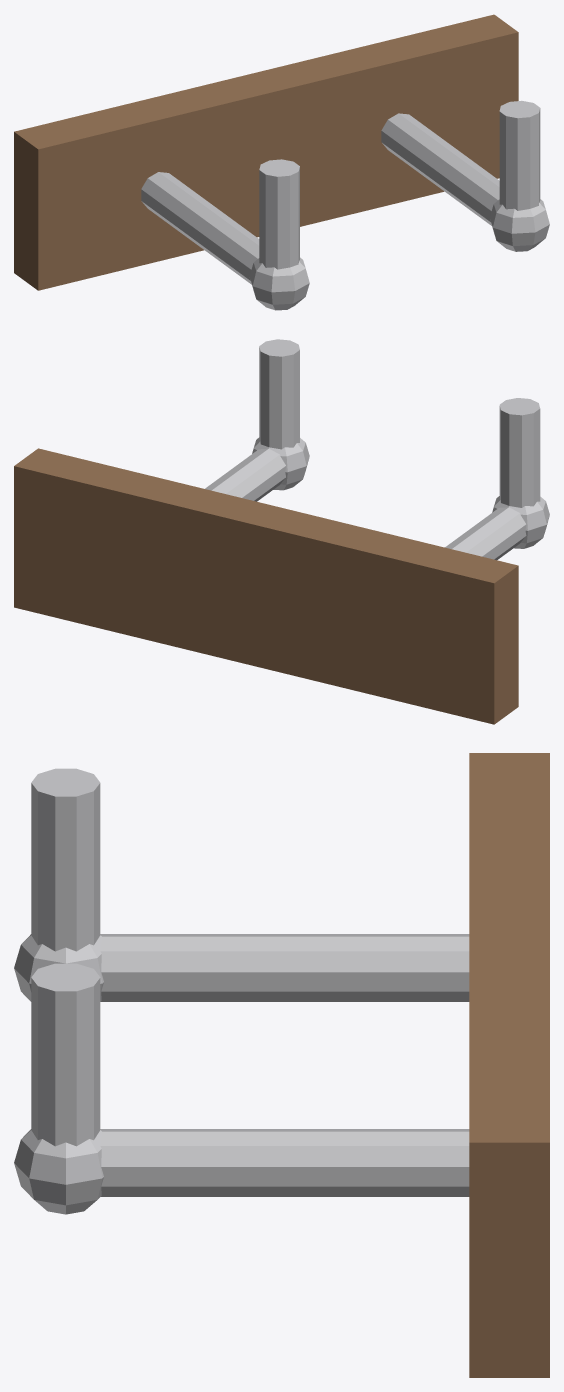
The model's file is SM_CoatHook.fbx.
3 views of the same model, one above another, from view 1: azimuth 30°, elevation 25°; view 2: azimuth 150°, elevation 25°; view 3: azimuth 270°, elevation 25° (orthographic). The views are drawn at different scales.
Parts seen in each view (by area): view 1: SM_CoatHook; view 2: SM_CoatHook; view 3: SM_CoatHook.
Part boxes in pixels (left/top/right/bottom): SM_CoatHook: left=14, top=14, right=549, bottom=310; SM_CoatHook: left=14, top=339, right=549, bottom=724; SM_CoatHook: left=14, top=753, right=549, bottom=1377.
Size of the model in its own units: 16 by 9.3 by 5.8.
